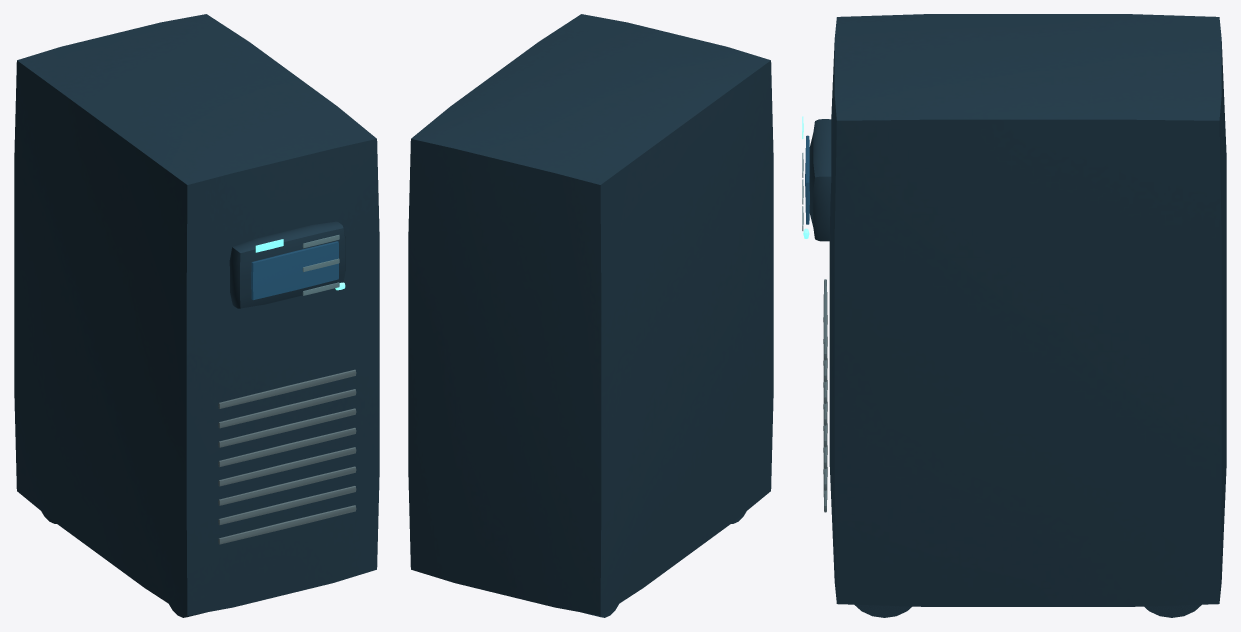
File: ups.glb
3 views of the same model, side by side, from view 1: azimuth 30°, elevation 25°; view 2: azimuth 150°, elevation 25°; view 3: azimuth 270°, elevation 25° (orthographic). The views are drawn at different scales.
Visible parts, largest first — view 1: ups; view 2: ups; view 3: ups.
Part boxes in pixels (box(x1,y1,x2,y2)): ups: box(14, 14, 379, 617); ups: box(408, 14, 773, 617); ups: box(802, 14, 1226, 617).
Size of the model in its own units: 0.38 by 0.822 by 0.62.
Materials: 24 (24 with a texture image).
